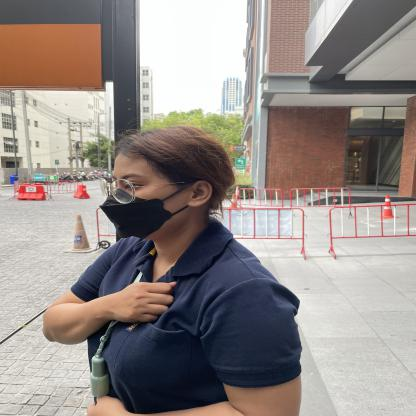Sadness: (40, 262, 210, 366)
